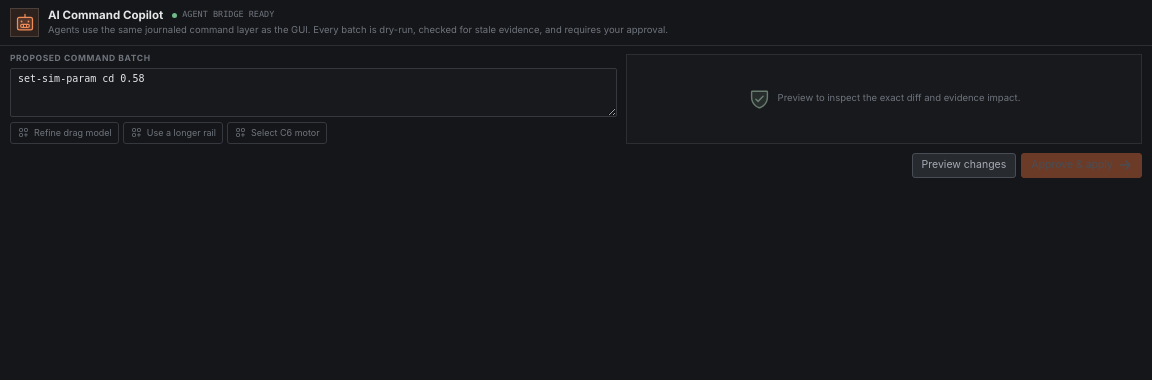
Scenario: CopilotPanel › dry-runs a command batch and surfaces evidence staleness before approval
Click the button "Preview changes": (964, 165) [912,153,1016,178]
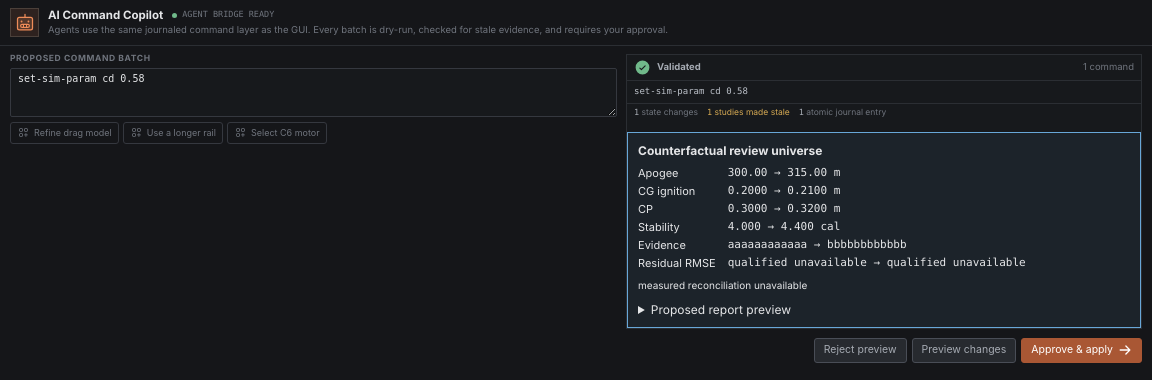
expect the text "Validated" is shown: met, box [657,62,701,73]
expect the text "1 studies made stale" is shown: met, box [707,108,790,118]
expect the text "300.00 → 315.00 m" is shown: met, box [728,166,840,179]
